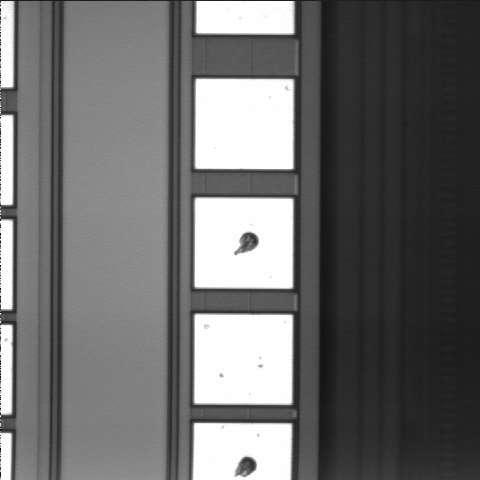pad: (194, 314, 293, 404), (195, 79, 293, 169), (195, 198, 293, 288)
